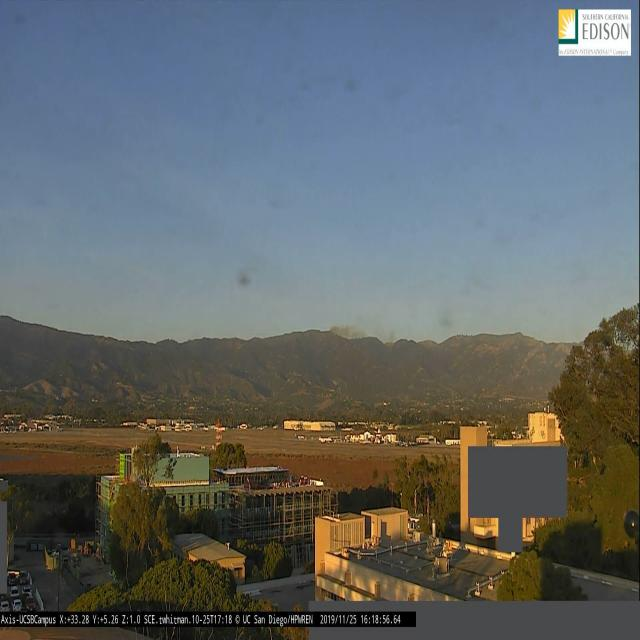smoke: (325, 322, 368, 341)
